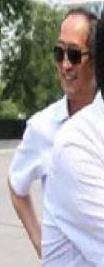no hat: (42, 5, 104, 112)
no vest: (45, 96, 104, 267), (19, 76, 67, 257)
